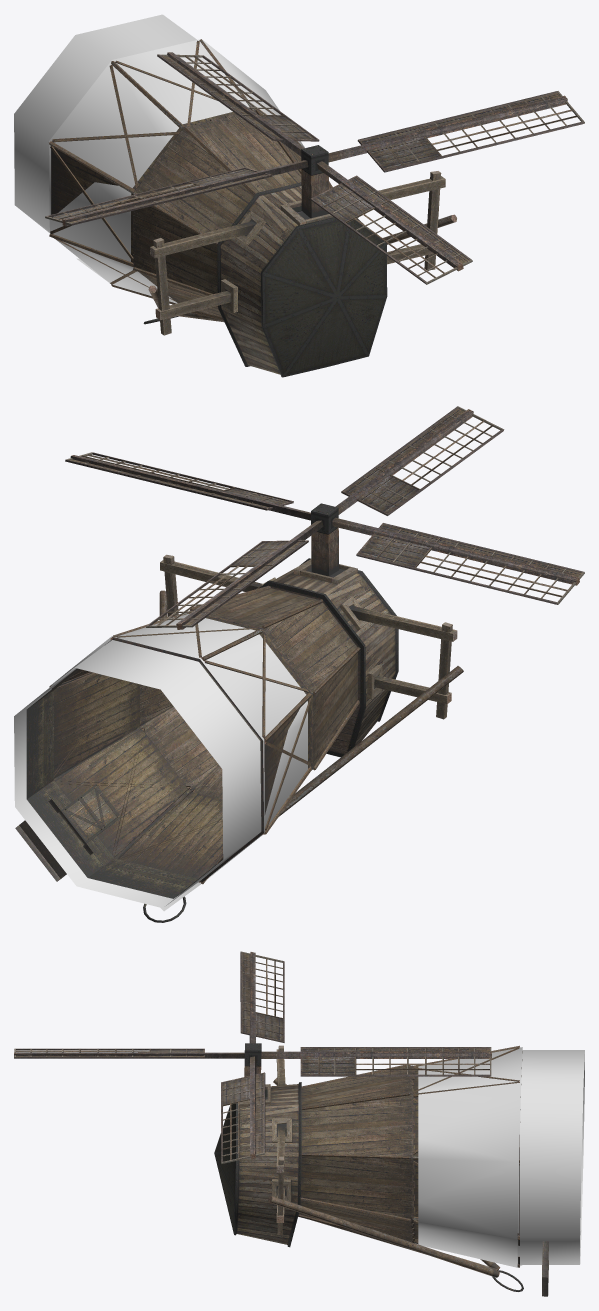
Rendered from hd_bld_EU_223_PMill.glb.
The picture shows the model from 3 angles, top to bottom: view 1: azimuth 30°, elevation 25°; view 2: azimuth 150°, elevation 25°; view 3: azimuth 270°, elevation 25°; orthographic projection. The views are drawn at different scales.
Visible parts, largest first — view 1: set_0_group_0, set_2_group_0, set_1_group_0; view 2: set_0_group_0, set_2_group_0, set_1_group_0; view 3: set_2_group_0, set_0_group_0, set_1_group_0.
Part boxes in pixels (left/top/right/bottom): set_0_group_0: left=49, top=39, right=456, bottom=377; set_2_group_0: left=14, top=14, right=304, bottom=303; set_1_group_0: left=45, top=52, right=584, bottom=284; set_0_group_0: left=15, top=554, right=463, bottom=922; set_2_group_0: left=14, top=614, right=307, bottom=911; set_1_group_0: left=65, top=406, right=584, bottom=629; set_2_group_0: left=418, top=1047, right=584, bottom=1267; set_0_group_0: left=214, top=1045, right=548, bottom=1296; set_1_group_0: left=14, top=951, right=491, bottom=1163.
Size of the model in its own units: 20.19 by 11.21 by 24.12.
3 materials, 2 textured.
